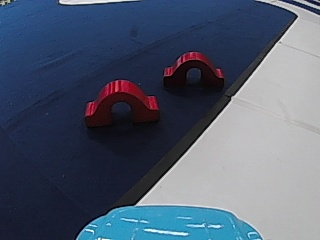bridge: (83, 78, 164, 127), (161, 51, 225, 91)
